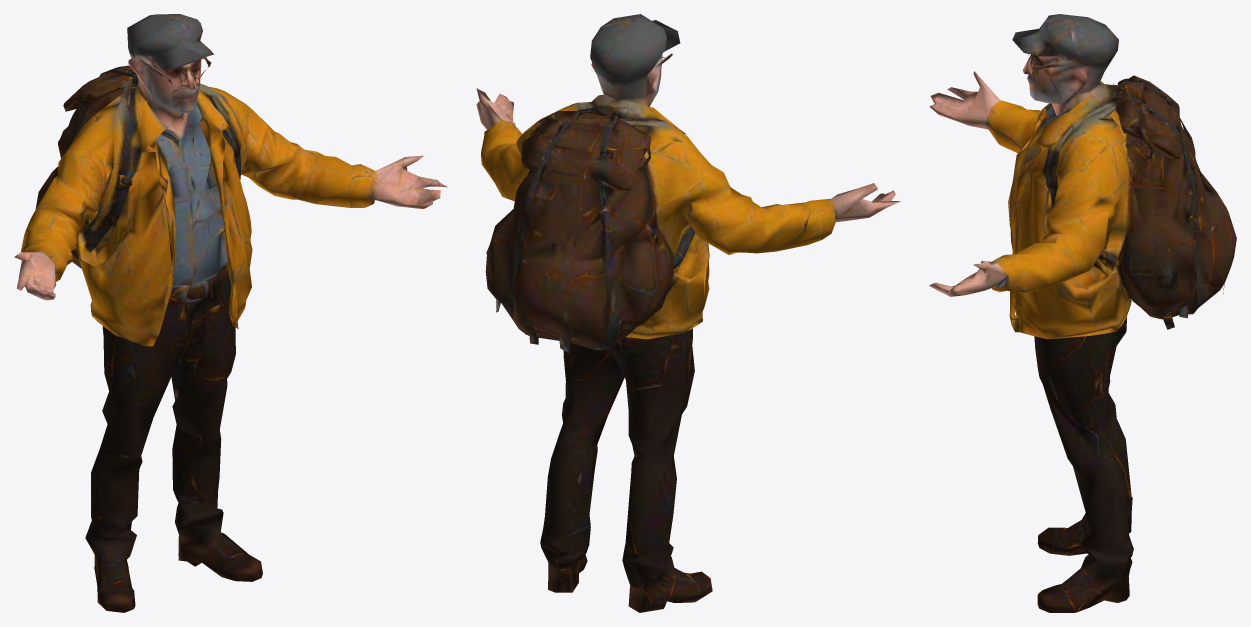
The model's file is pax-easy.glb.
3 views of the same model, side by side, from view 1: azimuth 30°, elevation 25°; view 2: azimuth 150°, elevation 25°; view 3: azimuth 270°, elevation 25° (orthographic). The views are drawn at different scales.
Size of the model in its own units: 1.49 by 1.9 by 0.9518.
Materials: 1 (1 with a texture image).
